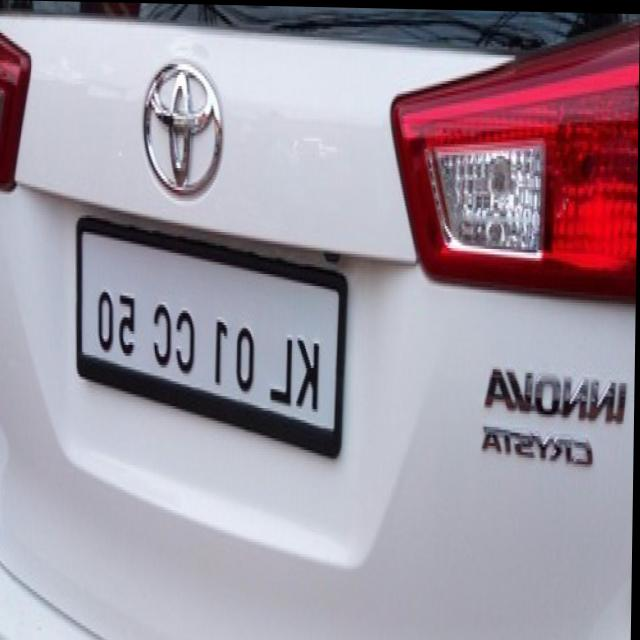licence: (92, 267, 354, 411)
